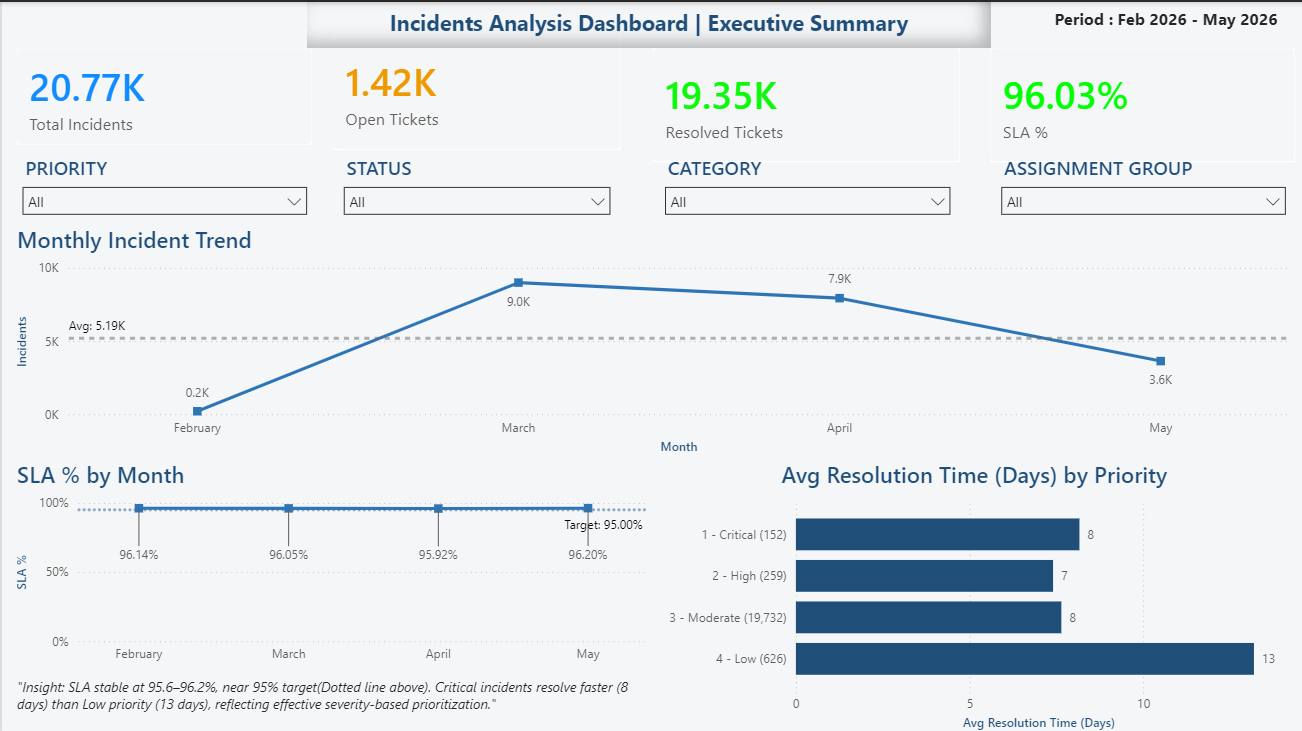

What the dashboard file says about the page in this screenshot:
{"tool":"powerbi","page":{"name":"Executive Summary ","canvas":[1280,720],"ordinal":0},"visuals":[{"type":"cardVisual","fields":{"Data":["VW_INCIDENT_ANALYTICS.Total Incidents"]},"box":[9.8,41.7,299.4,103.1],"z":0},{"type":"cardVisual","fields":{"Data":["VW_INCIDENT_ANALYTICS.Open Tickets"]},"box":[325.2,33.1,282.2,111.7],"z":1000},{"type":"cardVisual","fields":{"Data":["VW_INCIDENT_ANALYTICS.Resolved Tickets"]},"box":[639.3,45.4,300.6,111.7],"z":2000},{"type":"cardVisual","fields":{"Data":["VW_INCIDENT_ANALYTICS.SLA %"]},"box":[970.6,45.4,298.2,111.7],"z":3000},{"type":"lineChart","title":"Monthly Incident Trend","fields":{"Y":["CountNonNull(VW_INCIDENT_ANALYTICS.INCIDENT_NUMBER)"],"Category":["VW_INCIDENT_ANALYTICS.OPENED_AT.Variation.Date Hierarchy.Month"]},"box":[9.8,218.4,1258.9,230.7],"z":4000},{"type":"clusteredBarChart","title":"Avg Resolution Time (Days) by Priority","fields":{"Y":["VW_INCIDENT_ANALYTICS.Avg Resolution Time"],"Category":["VW_INCIDENT_ANALYTICS.Priority_With_Count"]},"box":[640.5,449.1,628.2,271.2],"z":5000},{"type":"slicer","fields":{"Values":["VW_INCIDENT_ANALYTICS.PRIORITY"]},"box":[9.8,144.8,299.4,73.6],"z":6000},{"type":"slicer","fields":{"Values":["VW_INCIDENT_ANALYTICS.STATUS"]},"box":[325.2,144.8,282.2,73.6],"z":7000},{"type":"slicer","fields":{"Values":["VW_INCIDENT_ANALYTICS.Category Updated"]},"box":[640.5,144.8,300.6,73.6],"z":8000},{"type":"slicer","fields":{"Values":["VW_INCIDENT_ANALYTICS.Assignment Group Updated"]},"box":[970.6,144.8,299.4,73.6],"z":9000},{"type":"textbox","box":[299.4,0,671.2,45.4],"z":10000},{"type":"textbox","box":[1028.2,0,240.5,41.7],"z":11000},{"type":"lineChart","fields":{"Category":["VW_INCIDENT_ANALYTICS.OPENED_AT.Variation.Date Hierarchy.Month"],"Y":["VW_INCIDENT_ANALYTICS.SLA %"]},"box":[9.8,449.1,629.5,208.6],"z":12000},{"type":"textbox","box":[9.8,657.7,629.5,62.6],"z":13000}]}

Visuals, with their boxes in screenshot pixels (x1, y1, x2, y2), scaled from the page's 1280x720 canvas onto the 1302x731 screenshot:
cardVisual - VW_INCIDENT_ANALYTICS.Total Incidents: {"left": 10, "top": 42, "right": 315, "bottom": 147}
cardVisual - VW_INCIDENT_ANALYTICS.Open Tickets: {"left": 331, "top": 34, "right": 618, "bottom": 147}
cardVisual - VW_INCIDENT_ANALYTICS.Resolved Tickets: {"left": 650, "top": 46, "right": 956, "bottom": 160}
cardVisual - VW_INCIDENT_ANALYTICS.SLA %: {"left": 987, "top": 46, "right": 1291, "bottom": 160}
"Monthly Incident Trend" lineChart: {"left": 10, "top": 222, "right": 1291, "bottom": 456}
"Avg Resolution Time (Days) by Priority" clusteredBarChart: {"left": 652, "top": 456, "right": 1291, "bottom": 730}
slicer - VW_INCIDENT_ANALYTICS.PRIORITY: {"left": 10, "top": 147, "right": 315, "bottom": 222}
slicer - VW_INCIDENT_ANALYTICS.STATUS: {"left": 331, "top": 147, "right": 618, "bottom": 222}
slicer - VW_INCIDENT_ANALYTICS.Category Updated: {"left": 652, "top": 147, "right": 957, "bottom": 222}
slicer - VW_INCIDENT_ANALYTICS.Assignment Group Updated: {"left": 987, "top": 147, "right": 1292, "bottom": 222}
textbox: {"left": 305, "top": 0, "right": 987, "bottom": 46}
textbox: {"left": 1046, "top": 0, "right": 1291, "bottom": 42}
lineChart - VW_INCIDENT_ANALYTICS.OPENED_AT.Variation.Date Hierarchy.Month x VW_INCIDENT_ANALYTICS.SLA %: {"left": 10, "top": 456, "right": 650, "bottom": 668}
textbox: {"left": 10, "top": 668, "right": 650, "bottom": 730}
